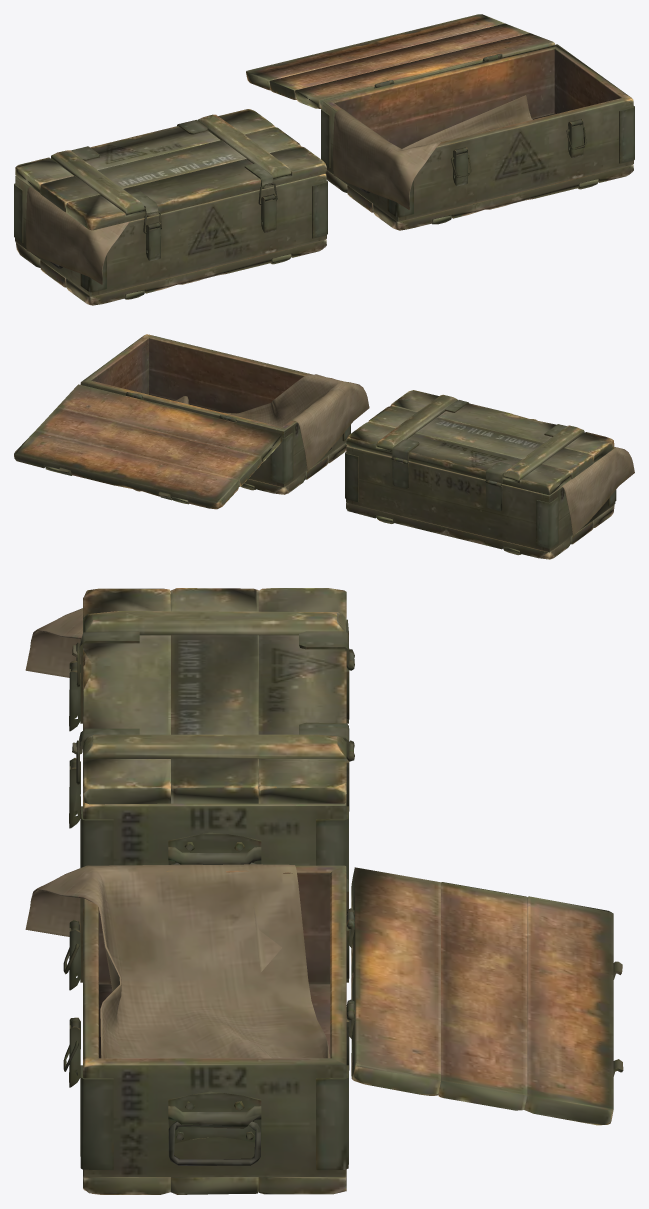
The model's file is old_military_crate.glb.
3 views of the same model, one above another, from view 1: azimuth 30°, elevation 25°; view 2: azimuth 150°, elevation 25°; view 3: azimuth 270°, elevation 25° (orthographic). The views are drawn at different scales.
Visible parts, largest first — view 1: old_military_crate_lid_a; view 2: old_military_crate_lid_a; view 3: old_military_crate_lid_a.
Part boxes in pixels (<box>): old_military_crate_lid_a: <box>14,14,634,305</box>; old_military_crate_lid_a: <box>14,334,634,559</box>; old_military_crate_lid_a: <box>25,588,623,1194</box>.
Size of the model in its own units: 1.82 by 0.3009 by 0.9752.
1 material, 1 textured.
